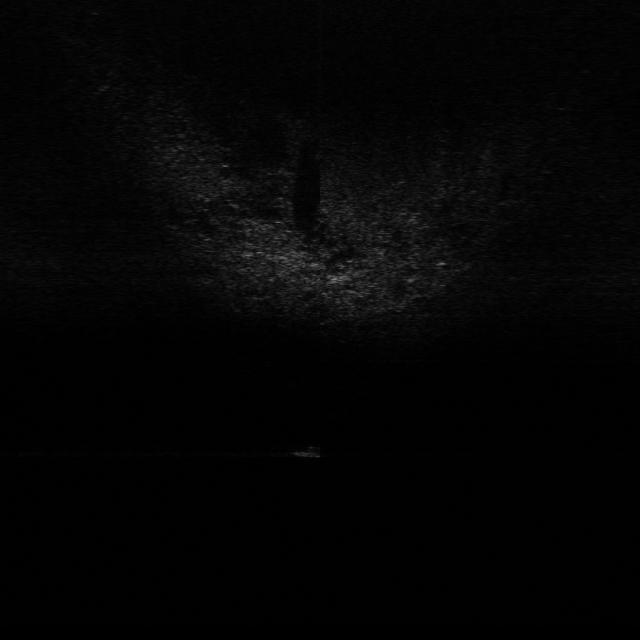cube: (323, 404, 358, 426)
